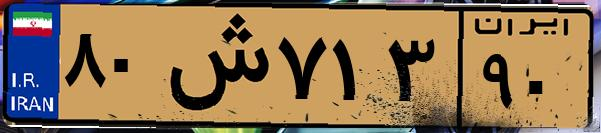0: (525, 38, 570, 115), (110, 28, 158, 98)
1: (330, 28, 385, 110)
3: (385, 28, 445, 110)
7: (270, 28, 330, 110)
8: (57, 26, 110, 100)
9: (475, 38, 525, 113)
ش: (158, 12, 270, 120)
